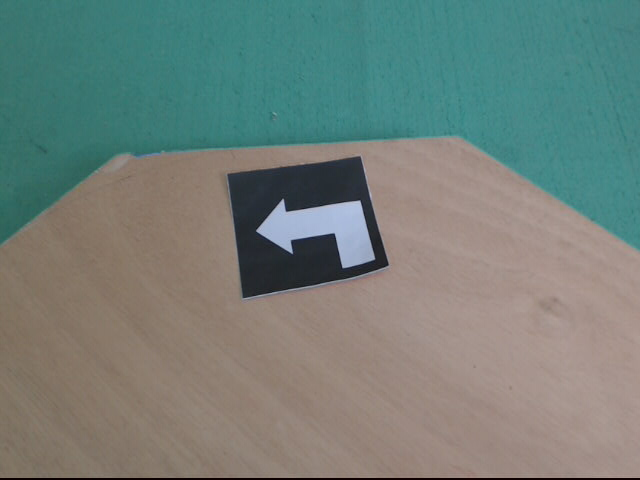left: (226, 155, 392, 306)
